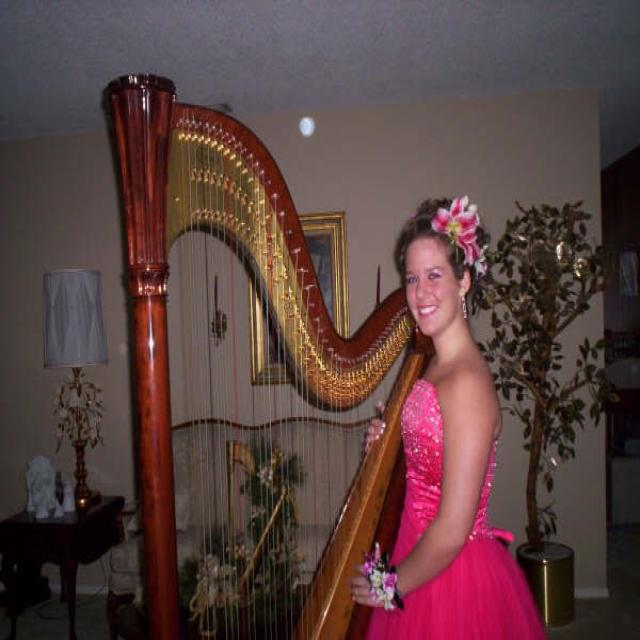harp: (105, 63, 430, 632)
